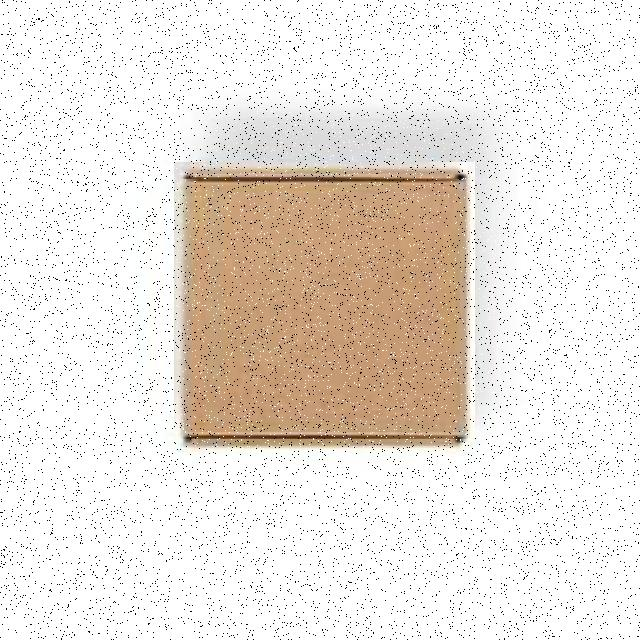normal: (174, 162, 475, 452)
